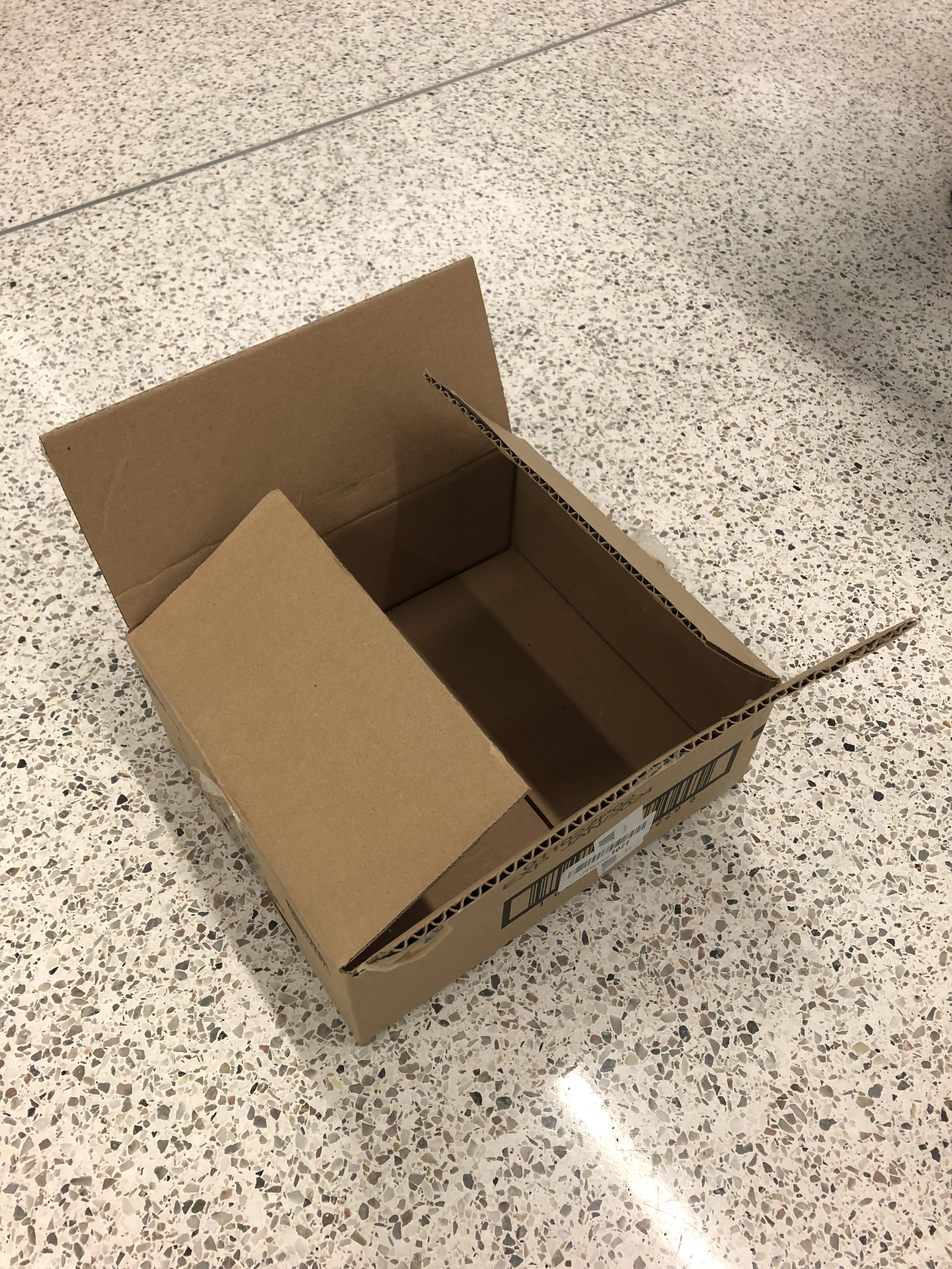box: (43, 249, 910, 1043)
crushed: (41, 258, 918, 978)
